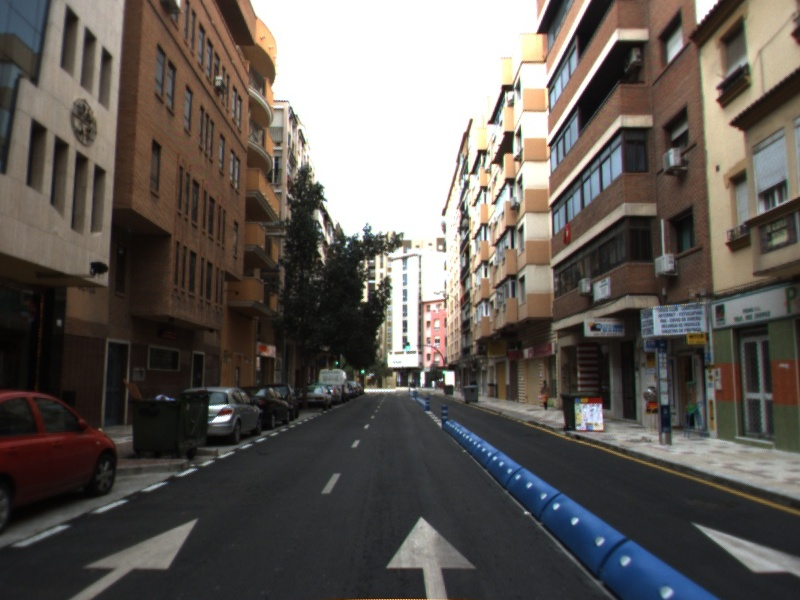STRAIGHT: (64, 516, 200, 600), (384, 514, 479, 600)
